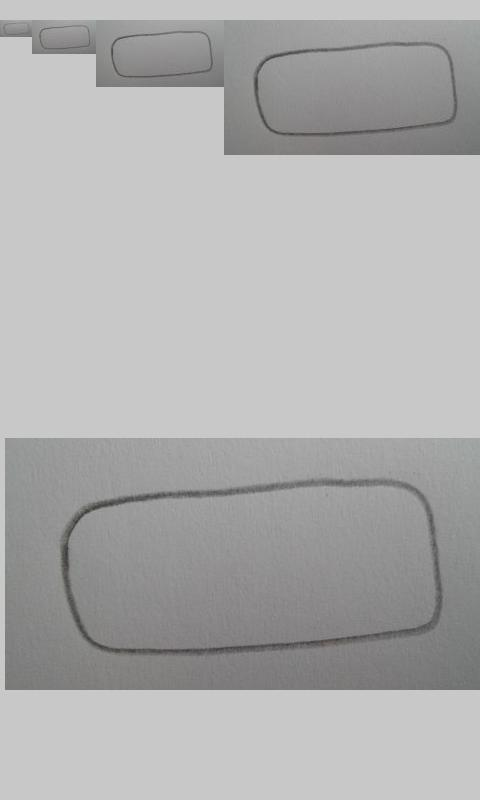chip: (59, 479, 443, 656), (254, 41, 459, 138), (110, 31, 214, 78), (39, 25, 91, 50), (2, 22, 31, 36)
